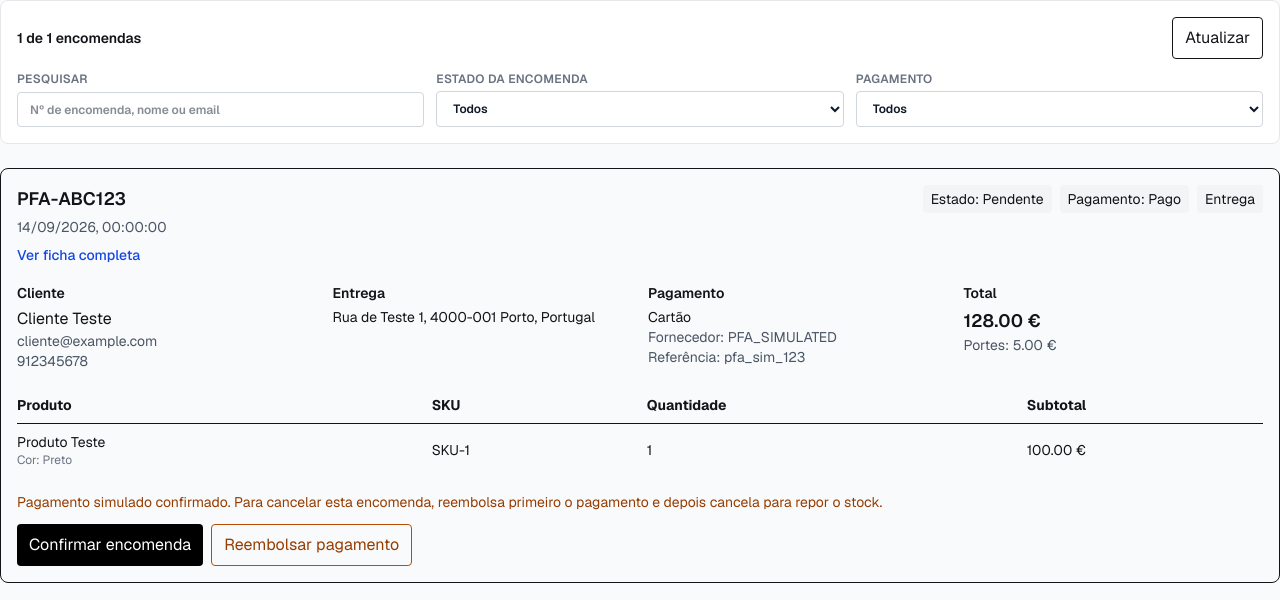
Test: Admin Orders Client › reembolsa pagamento simulado enviando apenas REFUND_PAYMENT
This screenshot has width=1280, height=600.
Click the button "Reembolsar pagamento".
click(312, 545)  # box [211,524,412,566]
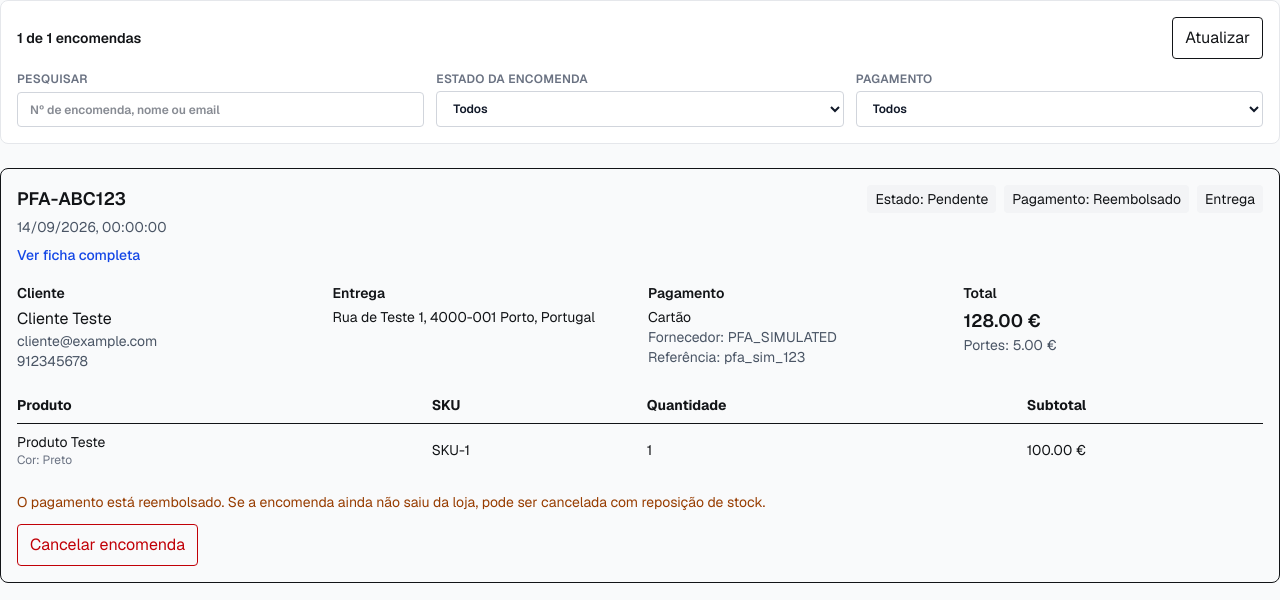
Result: the text "Pagamento: Reembolsado" is shown at [1004,185,1189,213]
Result: the button "Cancelar encomenda" is shown at [17,524,198,566]
Result: the button "Confirmar encomenda" is gone
